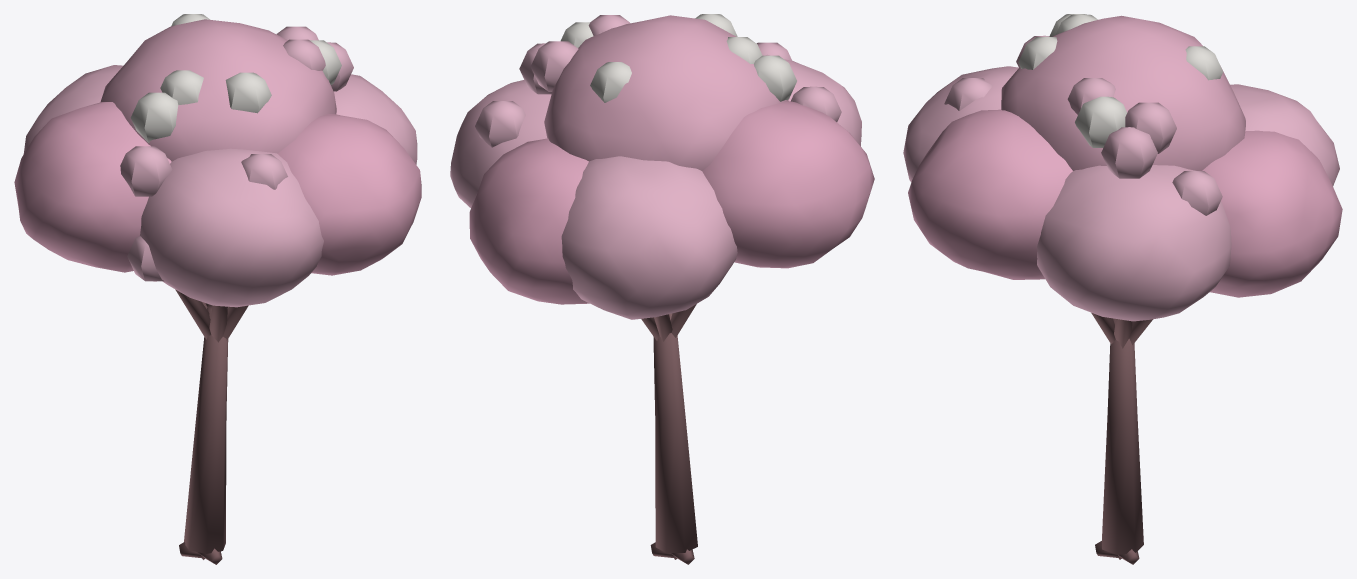
Rendered from cherry_blossom.glb.
3 views of the same model, side by side, from view 1: azimuth 30°, elevation 25°; view 2: azimuth 150°, elevation 25°; view 3: azimuth 270°, elevation 25° (orthographic). The views are drawn at different scales.
Visible parts, largest first — view 1: cherry_blossom; view 2: cherry_blossom; view 3: cherry_blossom.
Boxes of the visible parts, x1,y1,x2,y2 form: cherry_blossom: [14, 14, 421, 564]; cherry_blossom: [450, 14, 874, 564]; cherry_blossom: [903, 14, 1342, 564].
Size of what is drawn, in the model's own units: 5.28 by 7 by 5.16.
